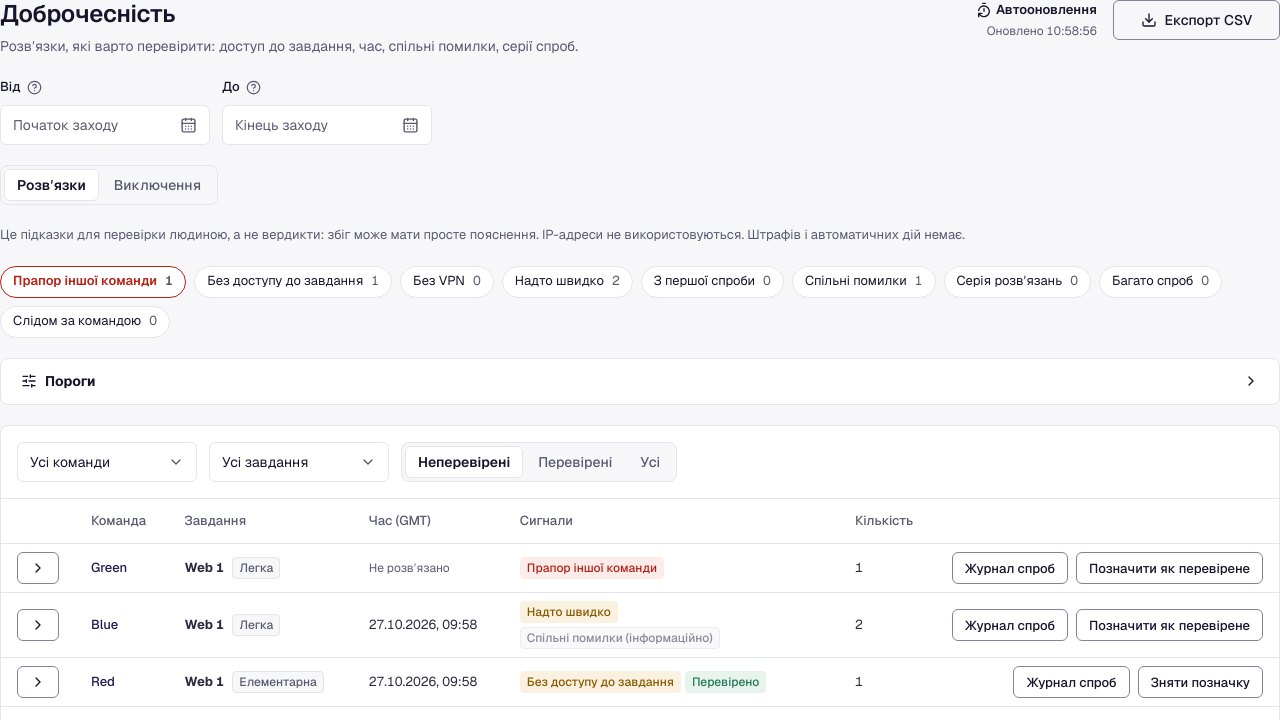
Scenario: Доброчесність › says so when there are no dismissals
This screenshot has width=1280, height=720.
Expected: the table is shown, [1,499,1279,707]
Click the button "Виключення" at (157, 185), box [101,169,214,201]
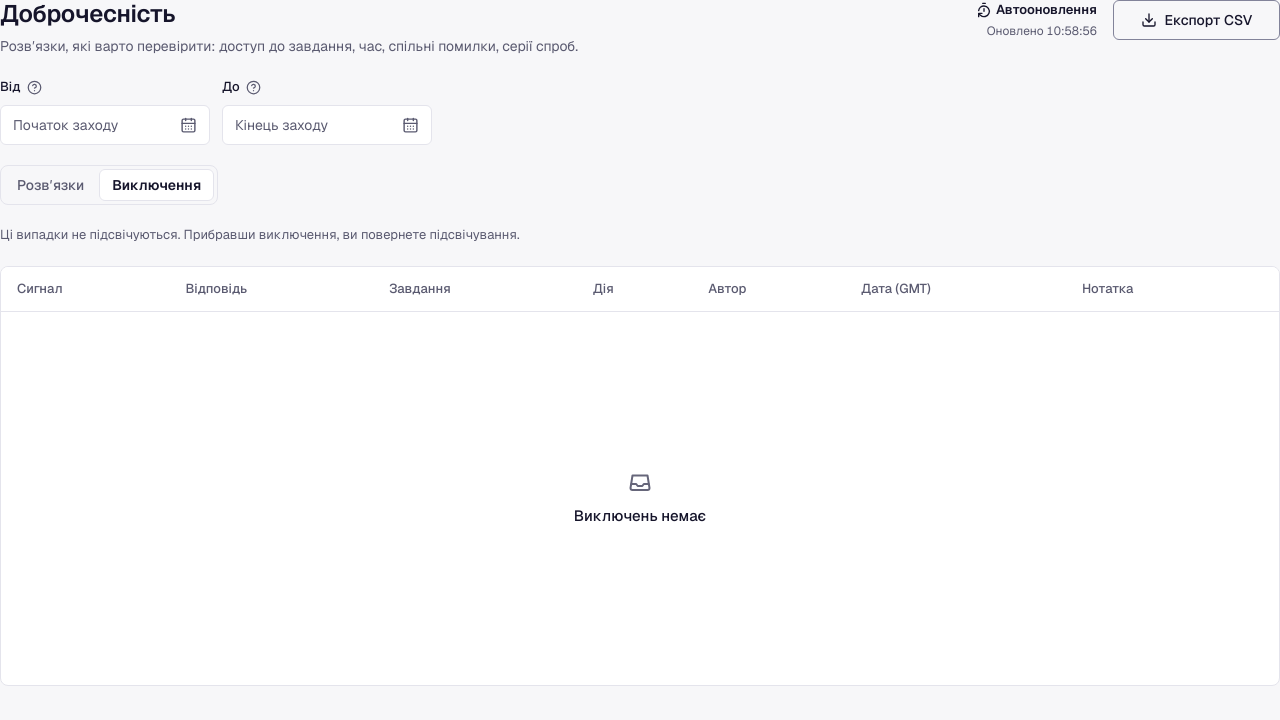
Expected: the text "Виключень немає" is shown, [574,506,706,526]
